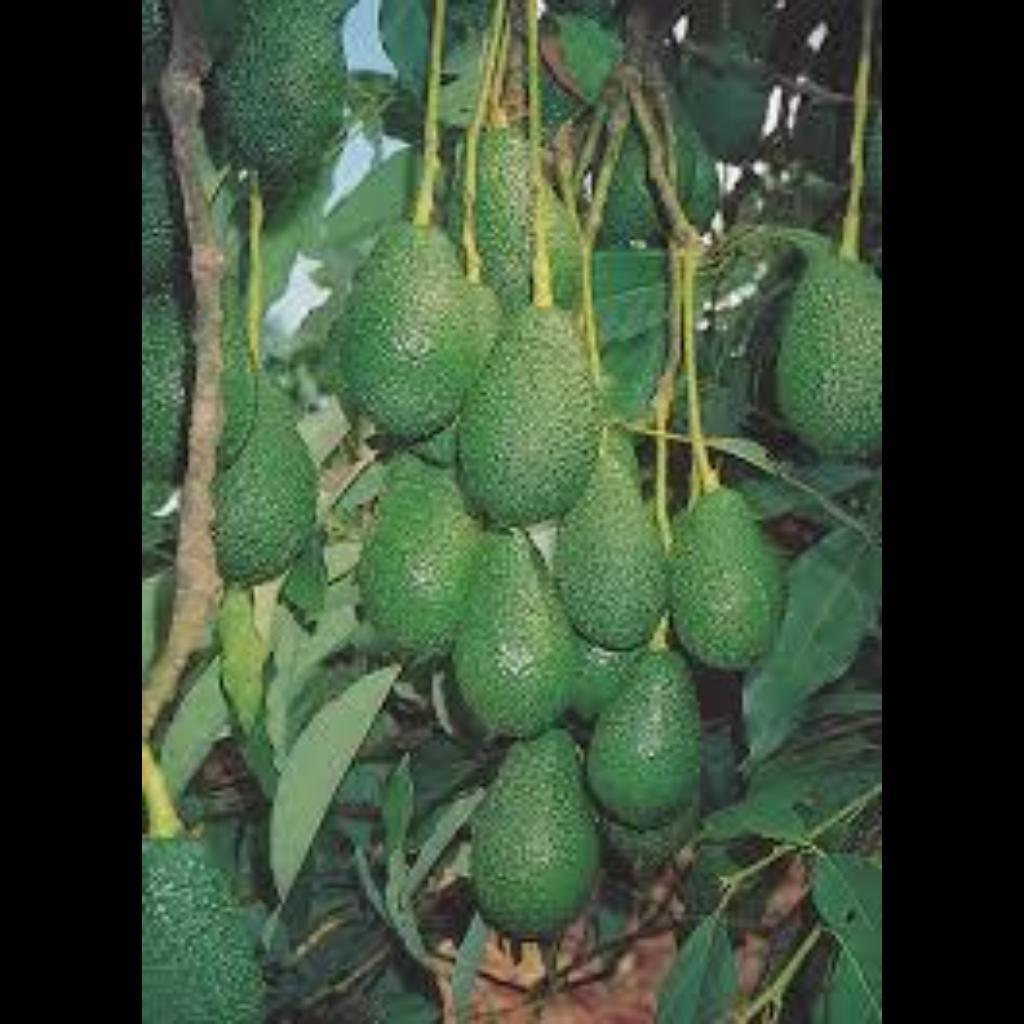cercospora: (472, 537, 728, 727), (483, 293, 623, 503), (241, 10, 349, 164), (799, 283, 880, 427)
